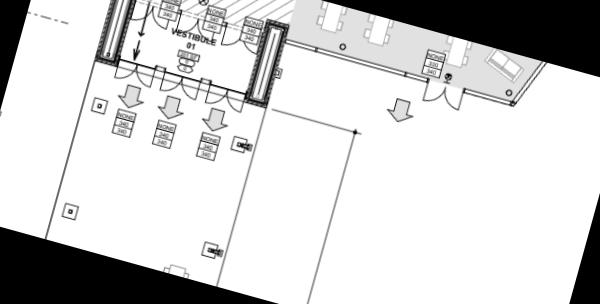double door: (418, 76, 468, 115), (113, 55, 158, 90), (157, 69, 203, 103), (203, 81, 249, 115)
